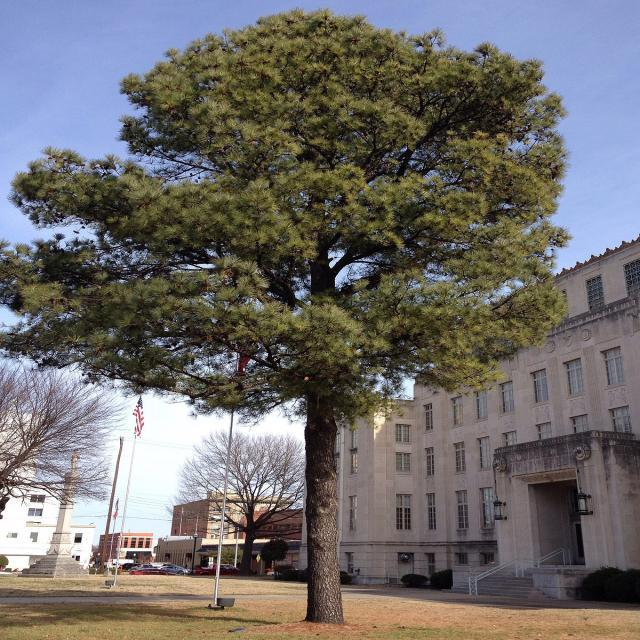Tree: (1, 11, 571, 626), (1, 360, 111, 520), (185, 426, 302, 576)
